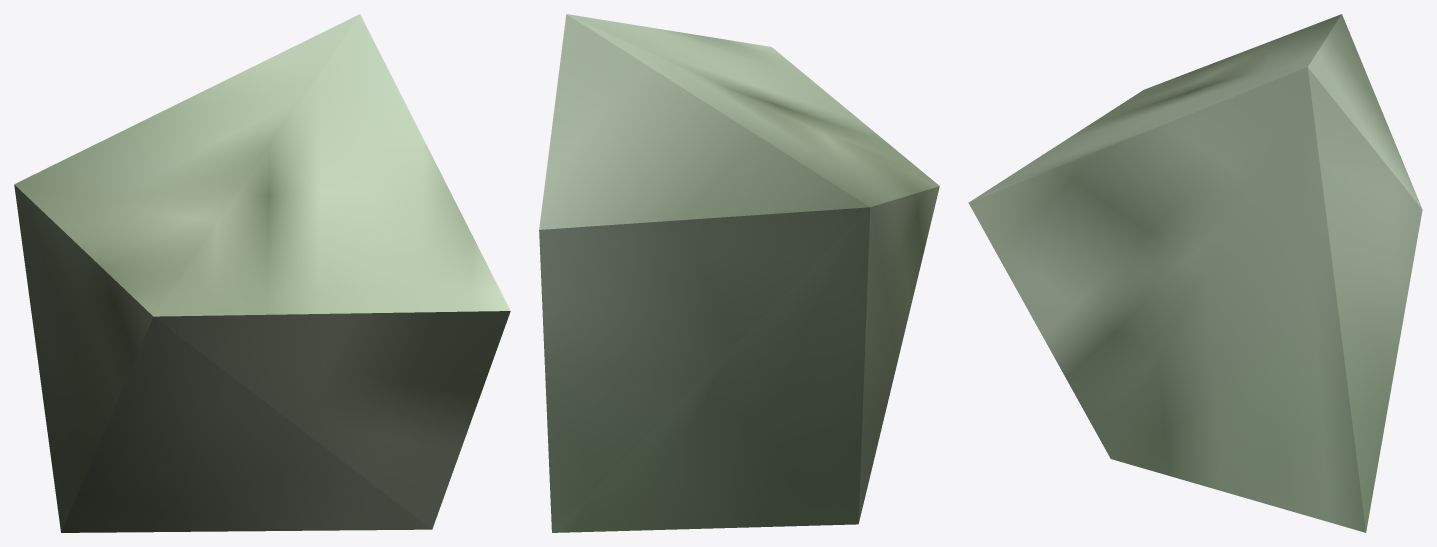
3 views of the same model, side by side, from view 1: azimuth 30°, elevation 25°; view 2: azimuth 150°, elevation 25°; view 3: azimuth 270°, elevation 25° (orthographic). The views are drawn at different scales.
Bounding box in the file's own units: 0.0487 × 0.0713 × 0.062.
Materials: 1 (1 with a texture image).
